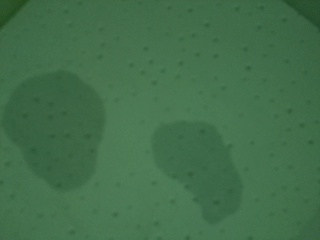Water_detected: (19, 81, 100, 181), (153, 129, 214, 201)
